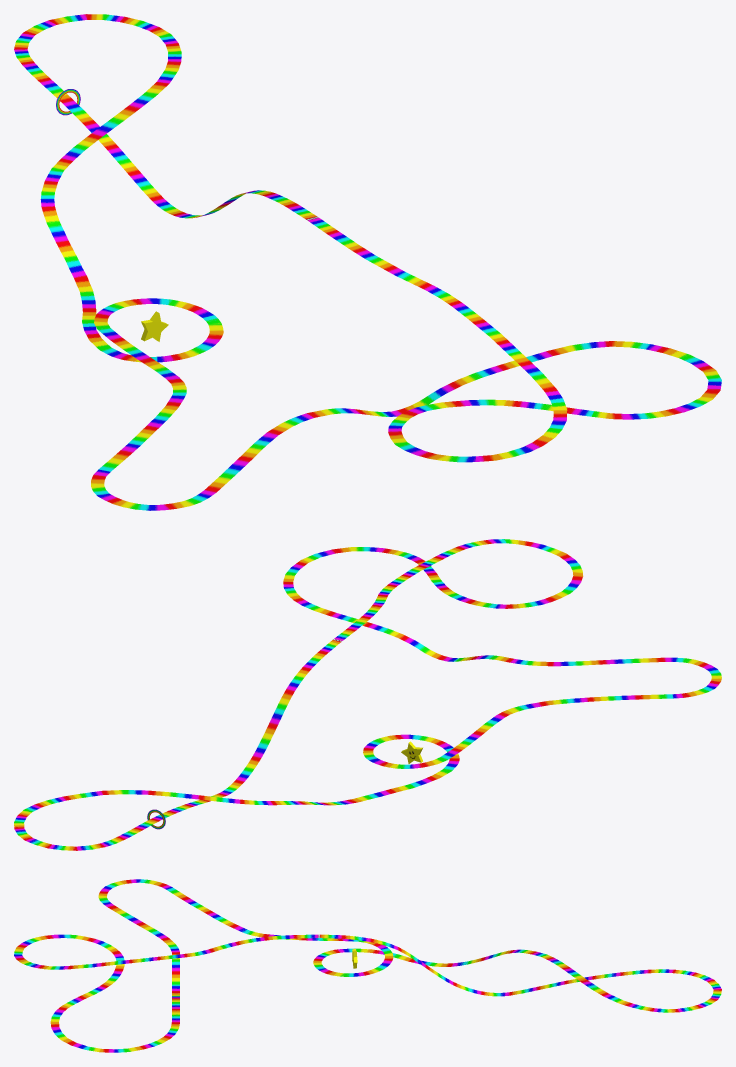
The model's file is Road.obj.
3 views of the same model, one above another, from view 1: azimuth 30°, elevation 25°; view 2: azimuth 150°, elevation 25°; view 3: azimuth 270°, elevation 25° (orthographic). The views are drawn at different scales.
Size of the model in its own units: 7899 by 1457 by 13351.
Materials: 4 (4 with a texture image).
